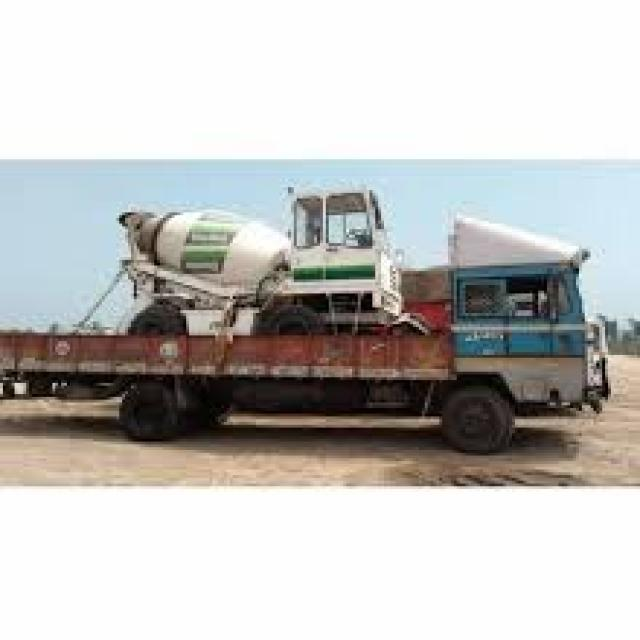uncovered: (1, 188, 604, 454)
